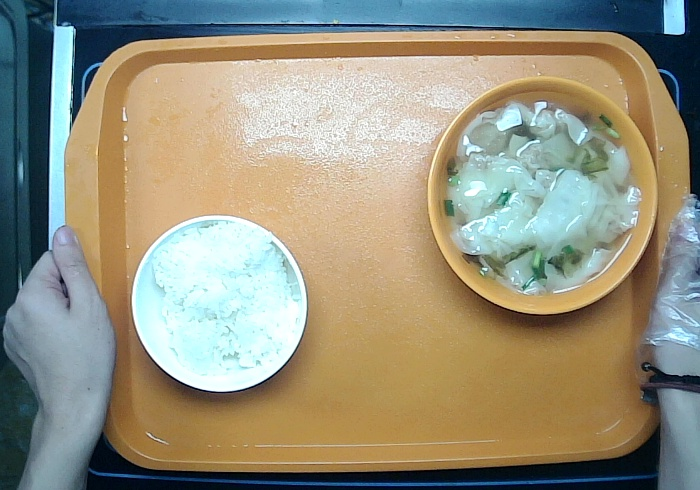NLDX-Fan_Wan: (127, 211, 312, 398)
NLDX-Hun_Tun_Wan: (419, 74, 671, 320)
